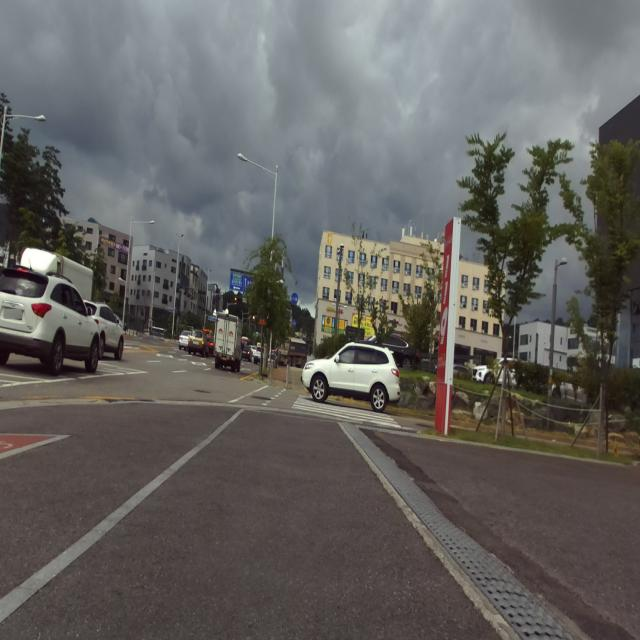횡단보도: (292, 395, 402, 428)
